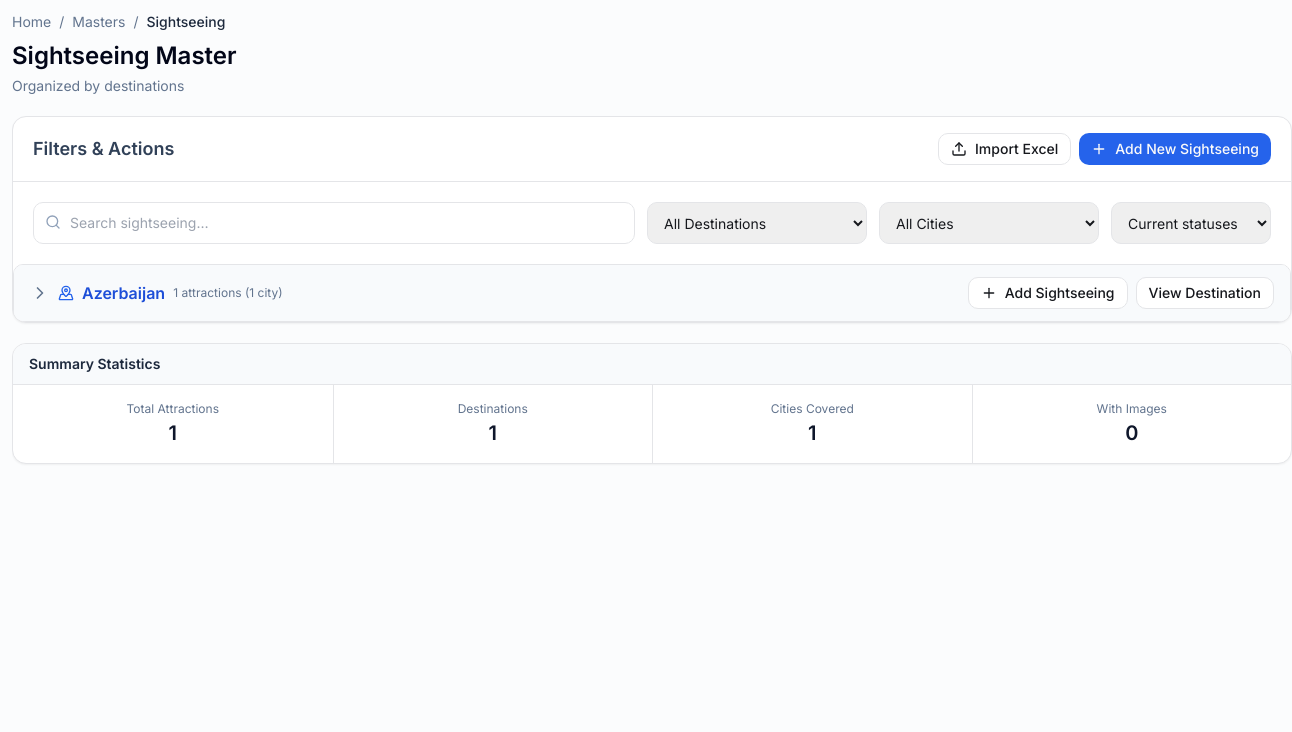
Phase 13D master pages › renders the sightseeing list grouped by destination and city
What coordinates should you click on to do the following:
click the button "Azerbaijan 1 attractions (1 city)"
I would click on:
 (156, 293)
Its box is [30,281,283,305].
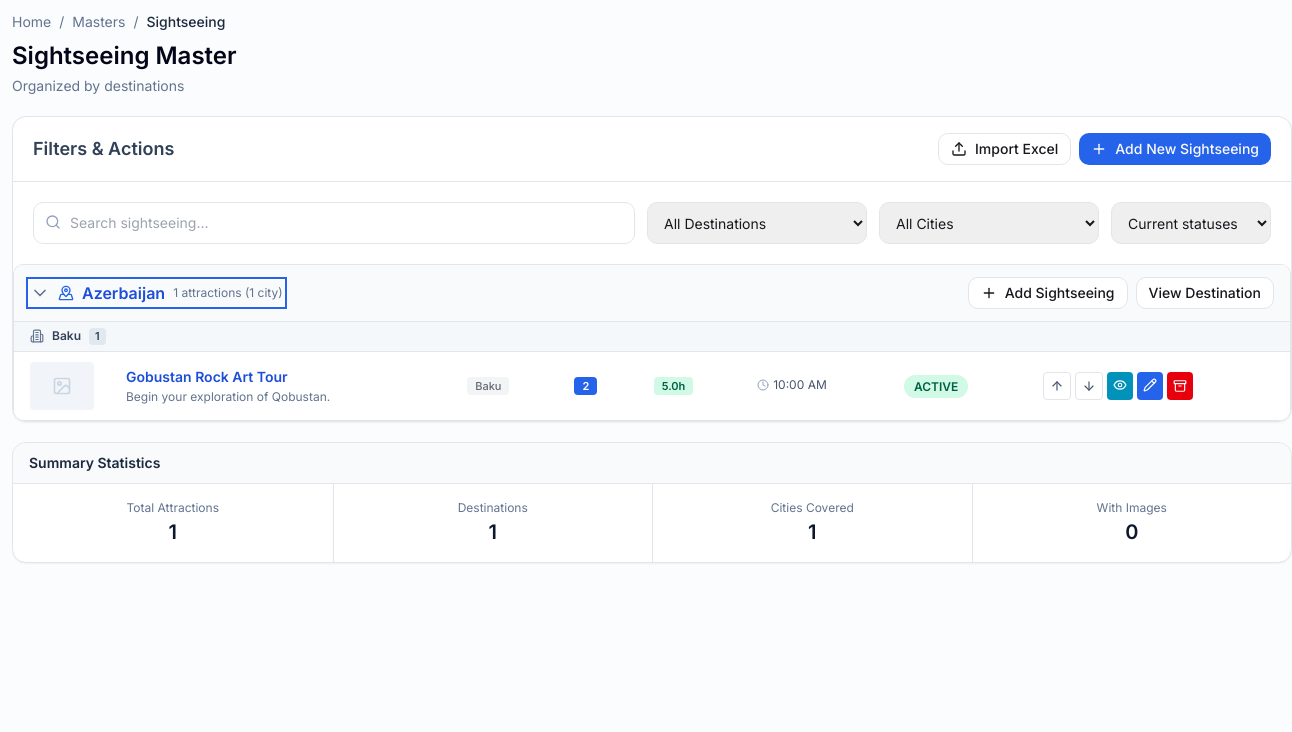
expect the link "Gobustan Rock Art Tour" is shown: met, box [126,368,288,384]
expect the text "2" is shown: met, box [574,377,597,395]
expect the text "5.0h" is shown: met, box [654,377,693,395]
